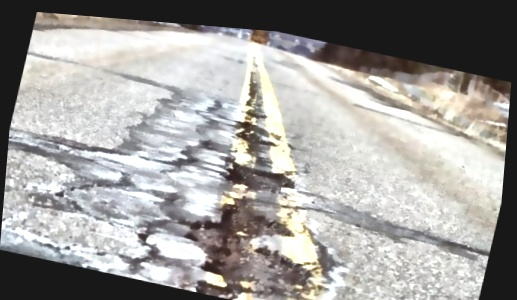pothole: (169, 193, 319, 300), (220, 158, 300, 198)
